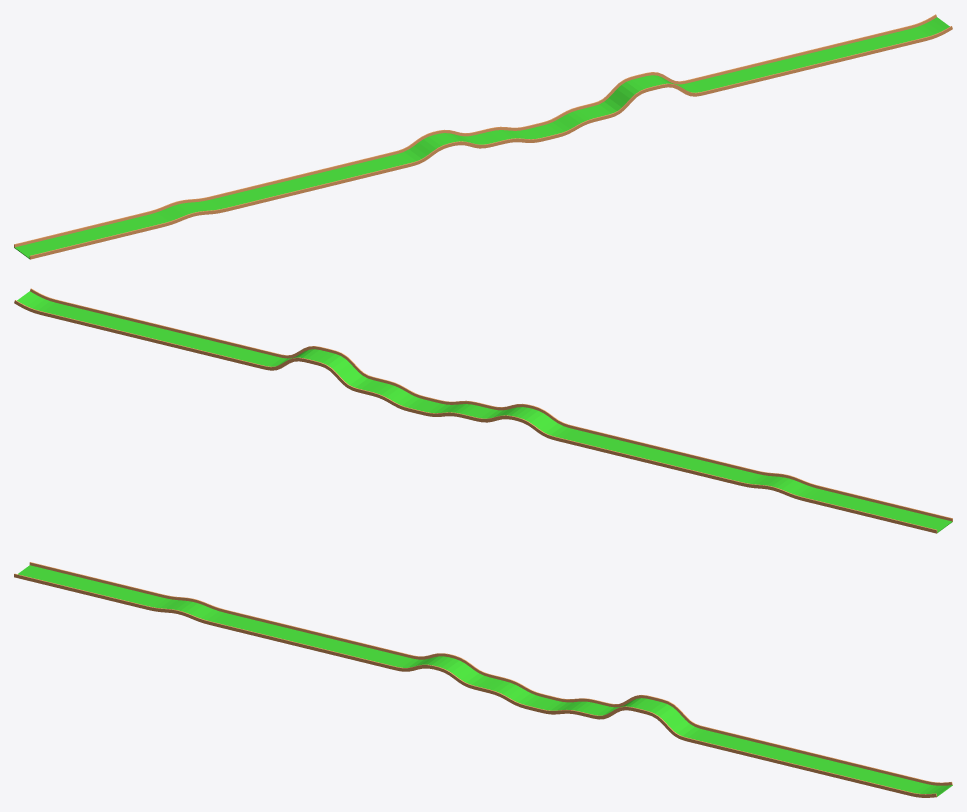
File: m-golf-hole-1.glb
The picture shows the model from 3 angles, top to bottom: view 1: azimuth 30°, elevation 25°; view 2: azimuth 150°, elevation 25°; view 3: azimuth 330°, elevation 25°; orthographic projection.
Visible parts, largest first — view 1: Track_Visual; view 2: Track_Visual; view 3: Track_Visual.
Part boxes in pixels (bbox=[...]): Track_Visual: bbox=[14, 14, 952, 259]; Track_Visual: bbox=[14, 288, 952, 533]; Track_Visual: bbox=[14, 562, 952, 797].
Size of what is drawn, in the model's own units: 70.09 by 2 by 2.15.
